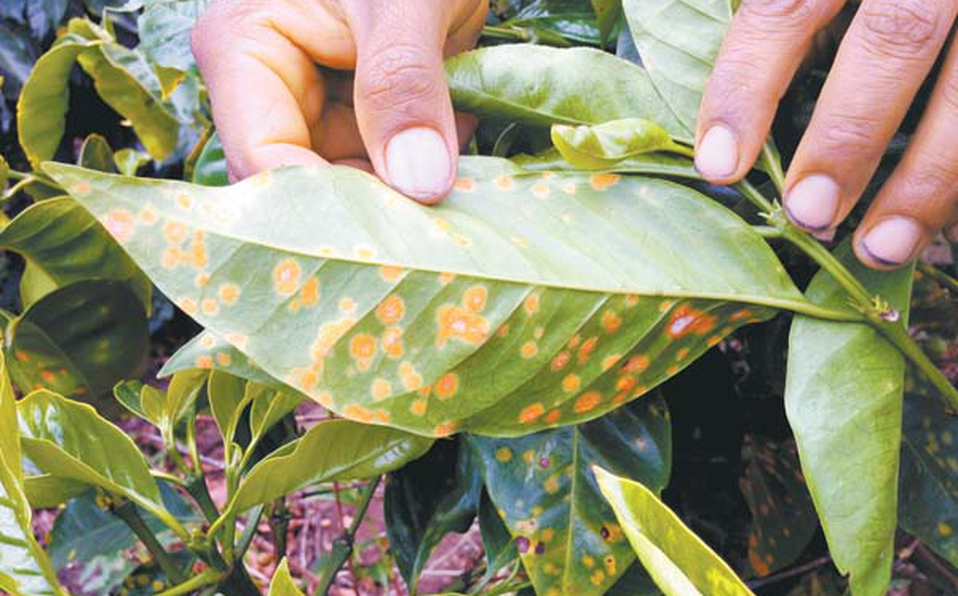roya: (69, 160, 822, 442)
